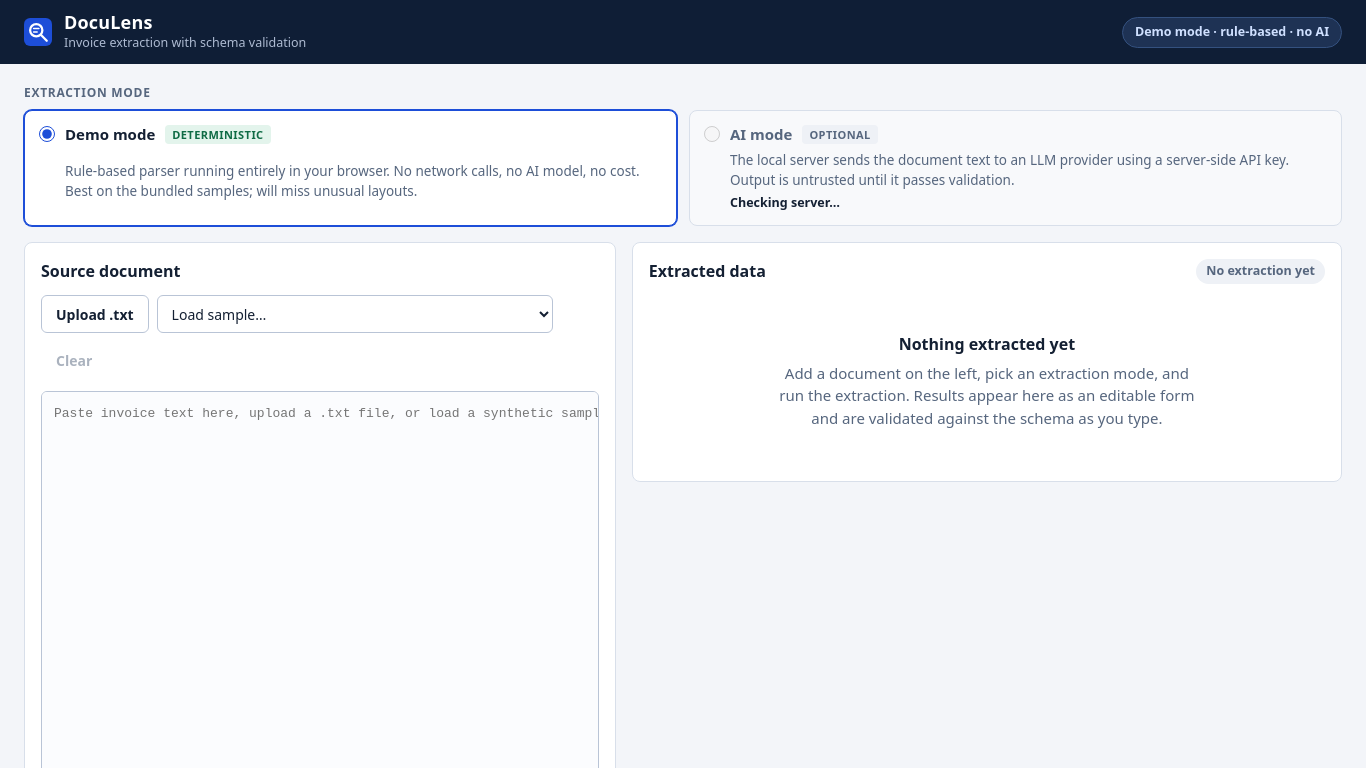
Test case: App — demo mode › extracts a sample, shows the source beside the results, and validates
Select "Clean invoice (pipe-delimited table)" in the dropdown named "load a synthetic sample" at [355, 314], box [157, 295, 553, 333]
(page scrolled)
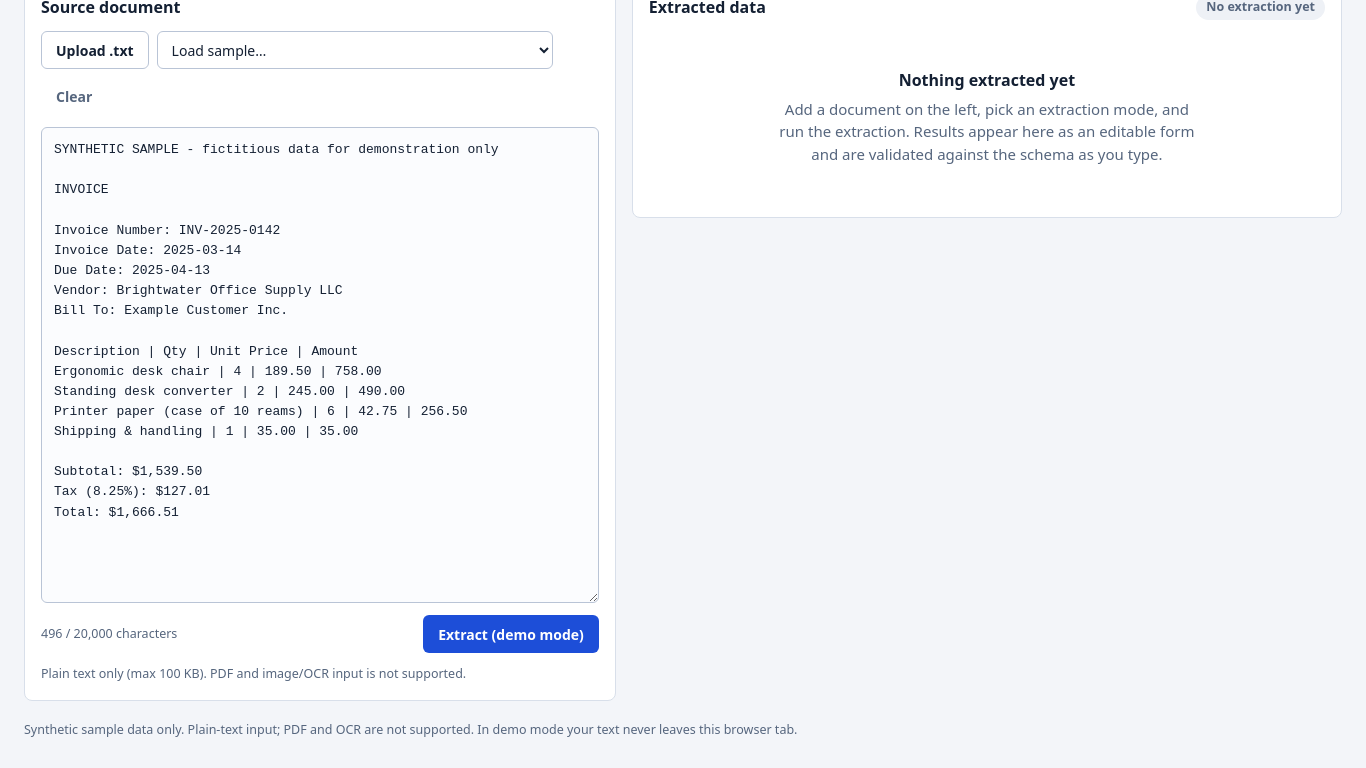
Click the button "Extract (demo mode)".
click(511, 634)  # box [423, 615, 599, 653]
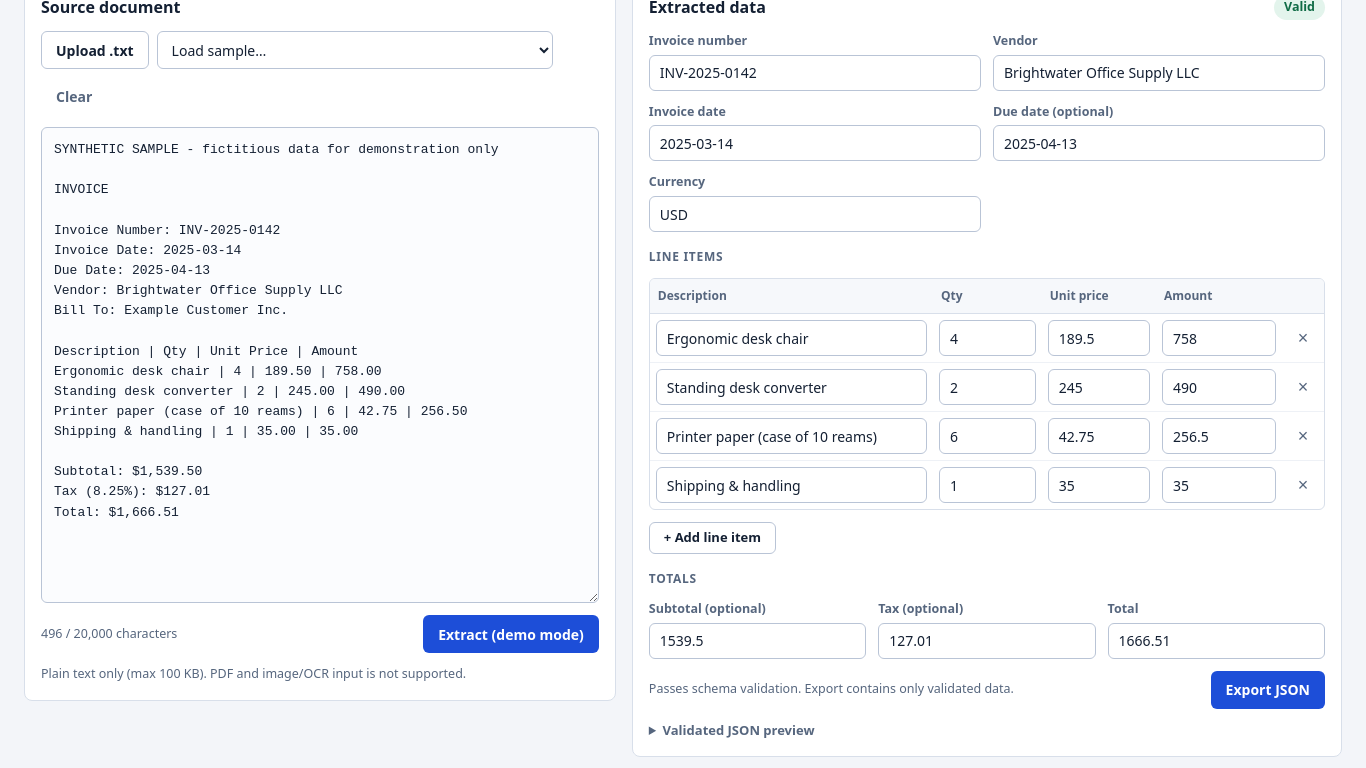
Now the field labelled "Invoice number" holds "INV-2025-0142", box [649, 55, 981, 91]
Now the field labelled "Vendor" holds "Brightwater Office Supply LLC", box [993, 55, 1325, 91]
Now the field named "line 1 description" holds "Ergonomic desk chair", box [656, 320, 927, 356]
